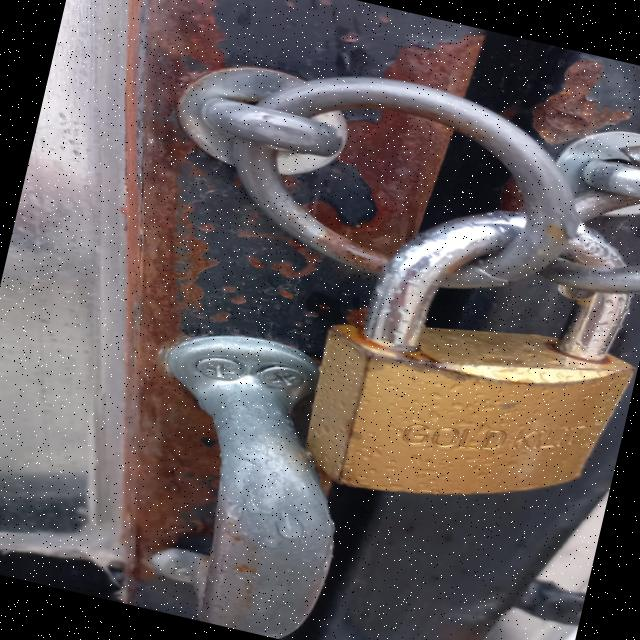Phillips: (186, 350, 245, 384), (253, 360, 305, 396)
